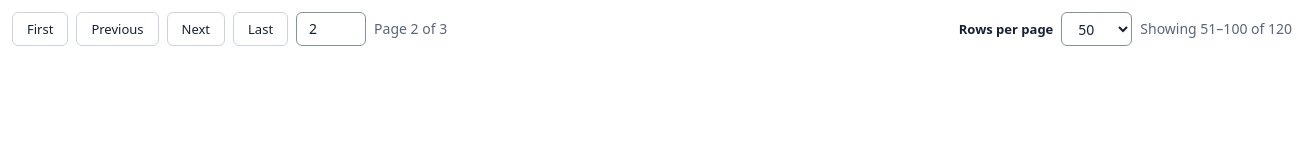
AuditPager › does nothing for an empty page box
Step 1. Clear the number field named "Page" → (331, 29), box [296,12,366,46]
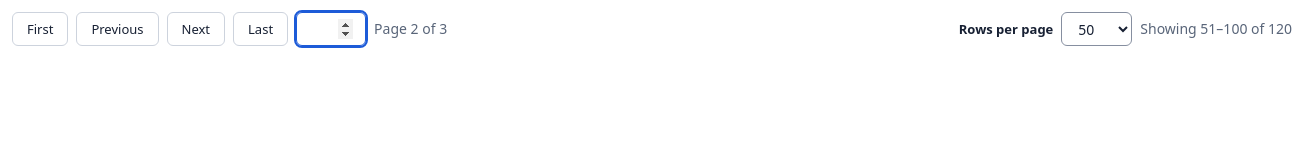
Step 2. Press Tab
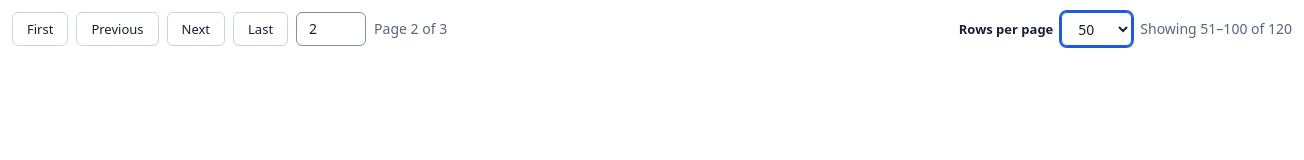
Expected: the number field named "Page" holds "2", [296,12,366,46]
